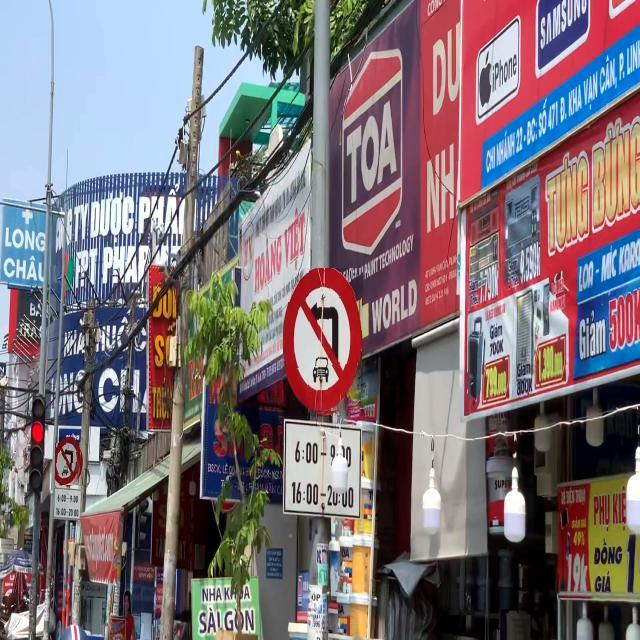P-103c: (283, 269, 363, 417), (55, 437, 83, 486)
